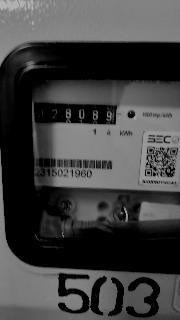1: (39, 108, 44, 118), (80, 109, 85, 119)
3: (53, 109, 58, 119)
9: (66, 109, 71, 120), (94, 110, 99, 121)
:: (107, 111, 112, 121)
